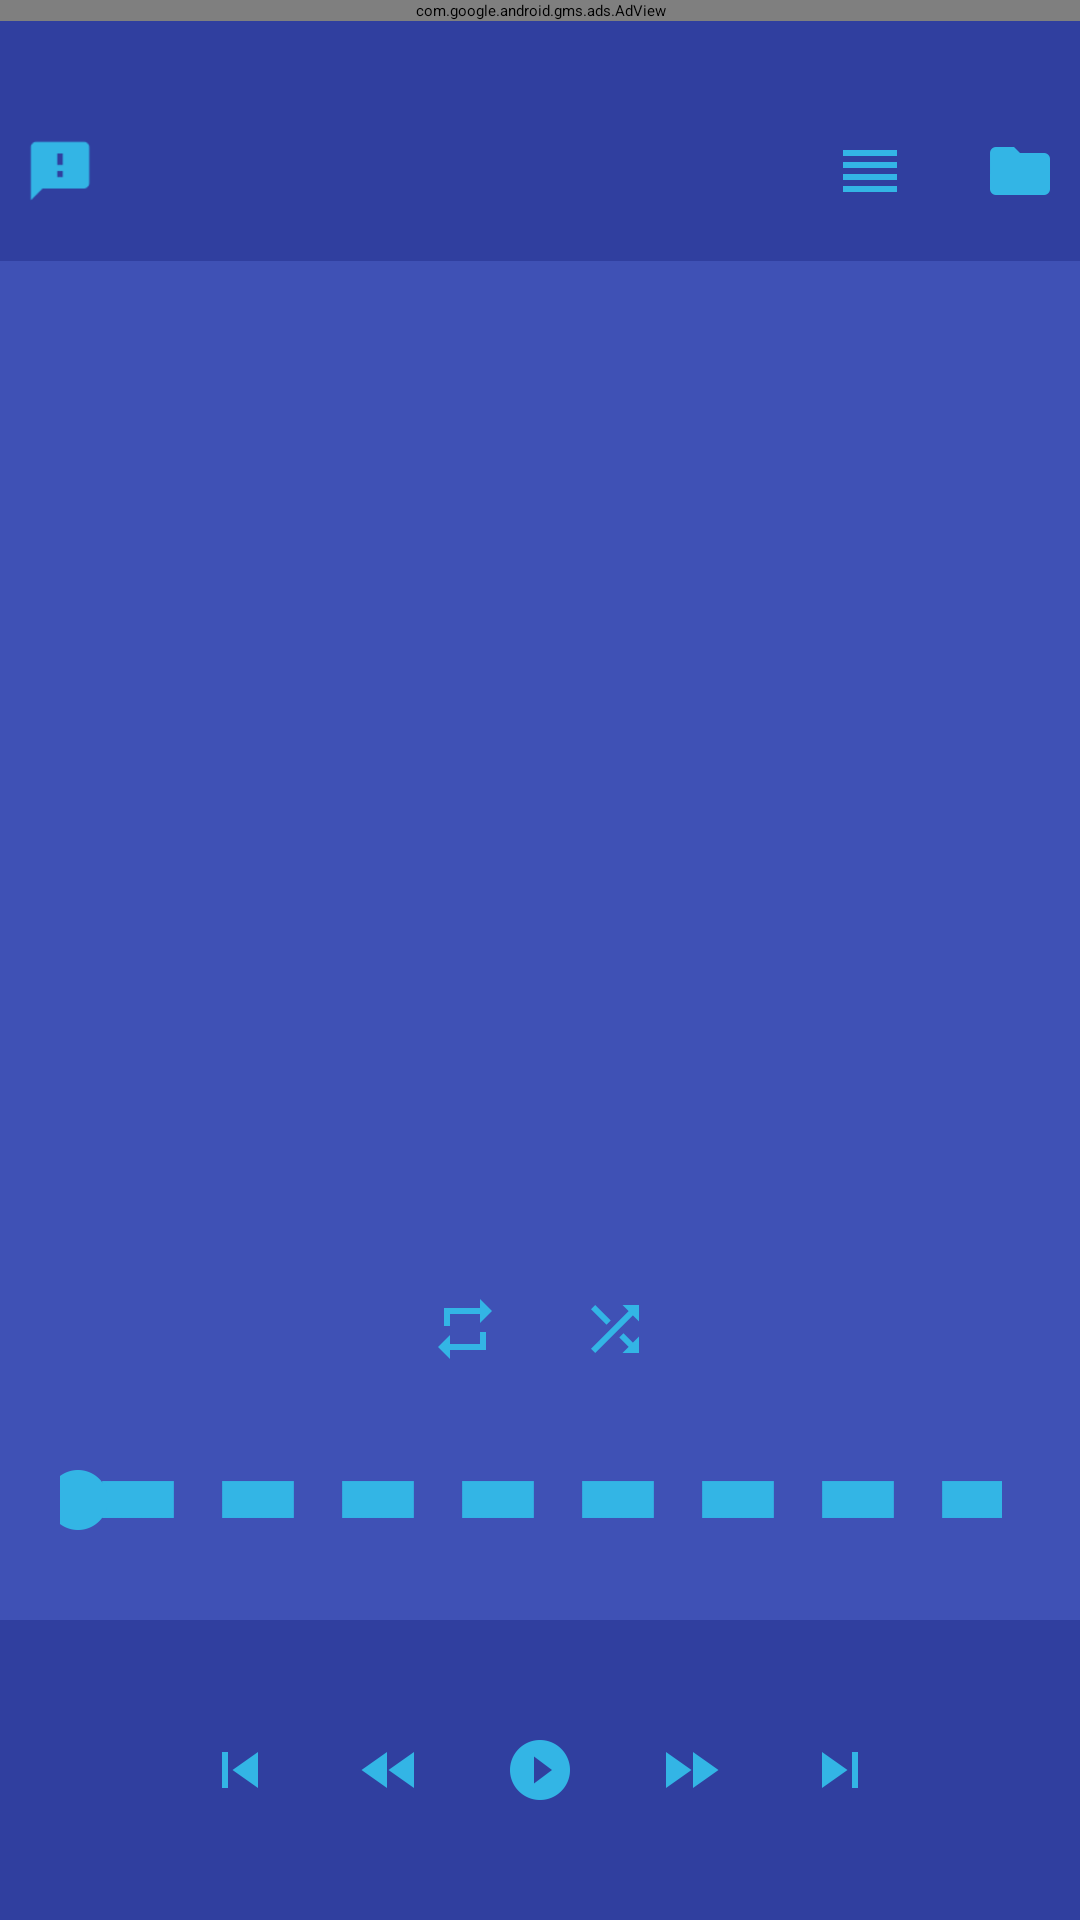

Screen size 1080px×1920px. Icon name, then its center in pixels as [x,y]:
av fast forward: [692,1770]
av fast rewind: [388,1770]
av repeat: [465,1329]
av shuffle: [615,1329]
av skip next: [840,1770]
av skip previous: [240,1770]
feedback: [60,170]
file folder: [1020,171]
menu: [870,171]
play: [540,1770]
